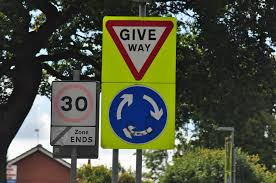giveway: (104, 18, 175, 84), (97, 32, 180, 66), (142, 15, 181, 86), (106, 17, 136, 79)
